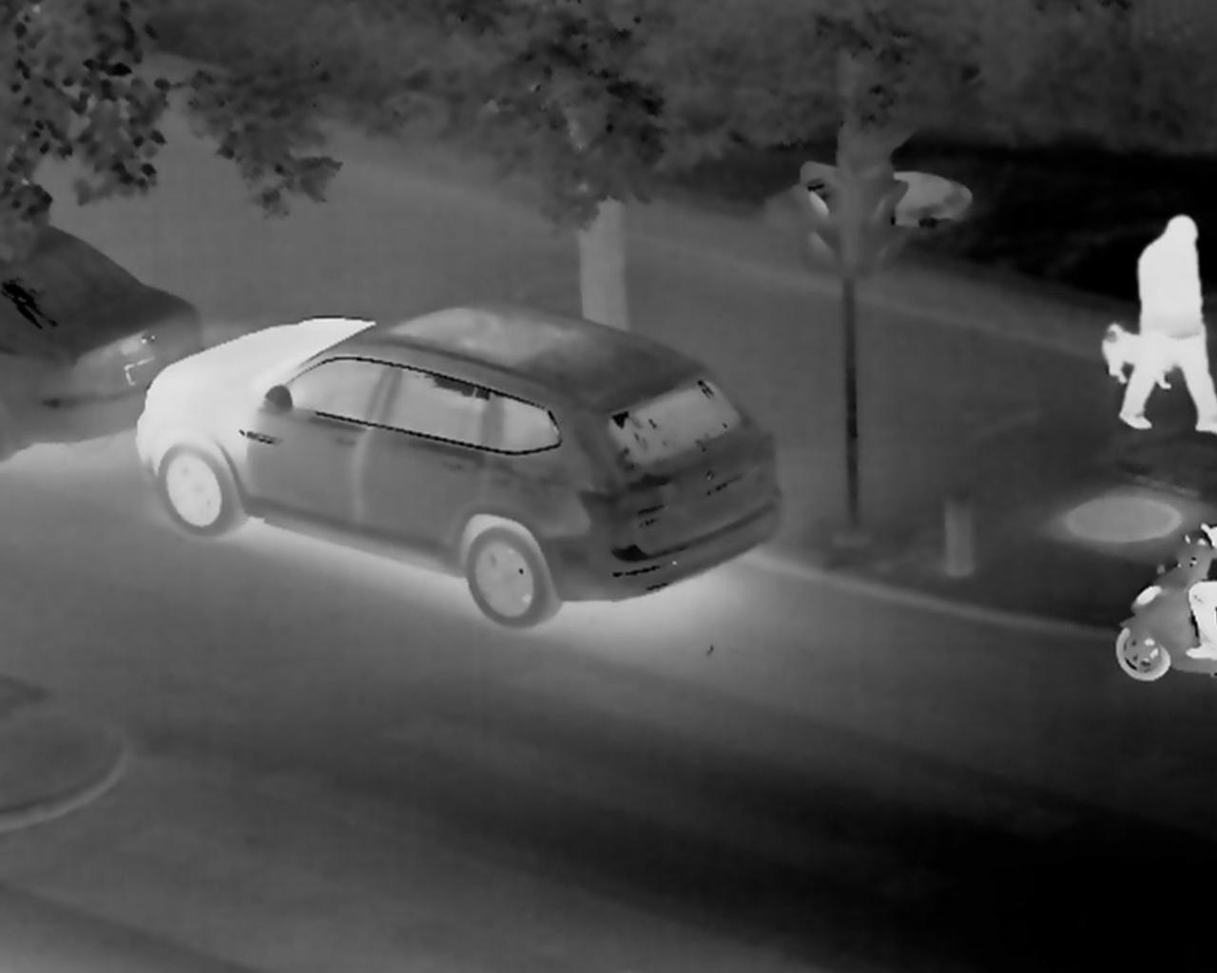person: (1102, 208, 1217, 448)
